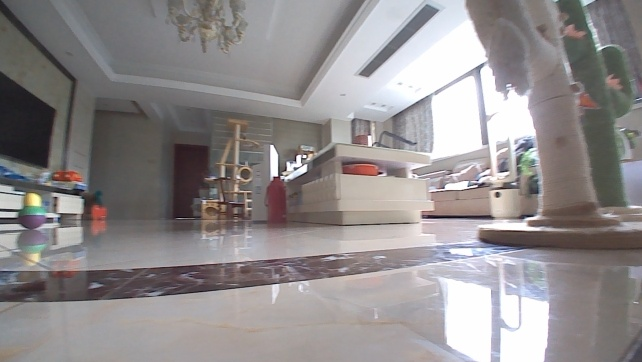TV_stand1: (0, 170, 88, 224)
door_anno: (170, 143, 210, 221)
sofa: (410, 146, 534, 218)
tea_table: (278, 141, 437, 225)
